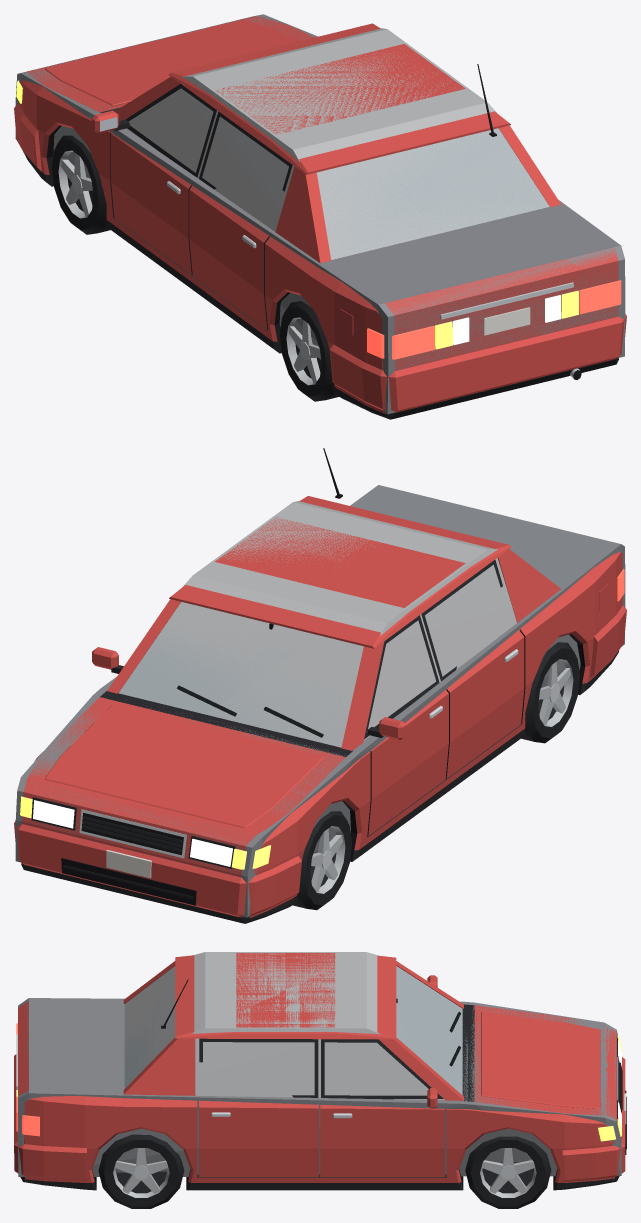
Rendered from car_sedan.glb.
The picture shows the model from 3 angles, top to bottom: view 1: azimuth 30°, elevation 25°; view 2: azimuth 150°, elevation 25°; view 3: azimuth 270°, elevation 25°; orthographic projection. The views are drawn at different scales.
Parts seen in each view (by area): view 1: car_sedan__body, car_sedan__col_cabin, car_sedan__col_body, car_sedan__door_fl, car_sedan__door_rl, car_sedan__wheel_fl, car_sedan__wheel_rl; view 2: car_sedan__body, car_sedan__col_cabin, car_sedan__col_body, car_sedan__door_fl, car_sedan__door_rl, car_sedan__wheel_rl, car_sedan__wheel_fl; view 3: car_sedan__body, car_sedan__col_cabin, car_sedan__col_body, car_sedan__door_fr, car_sedan__door_rr, car_sedan__wheel_fr, car_sedan__wheel_rr.
Boxes of the visible parts, x1,y1,x2,y2 form: car_sedan__body: (14, 16, 626, 419); car_sedan__col_cabin: (126, 28, 549, 259); car_sedan__col_body: (15, 14, 625, 414); car_sedan__door_fl: (92, 84, 216, 274); car_sedan__door_rl: (189, 111, 292, 330); car_sedan__wheel_fl: (52, 135, 110, 234); car_sedan__wheel_rl: (279, 301, 338, 401); car_sedan__body: (14, 448, 626, 923); car_sedan__col_cabin: (119, 501, 516, 747); car_sedan__col_body: (15, 485, 625, 917); car_sedan__door_fl: (364, 615, 448, 836); car_sedan__door_rl: (421, 559, 524, 778); car_sedan__wheel_rl: (521, 642, 579, 743); car_sedan__wheel_fl: (293, 811, 351, 910); car_sedan__body: (14, 953, 626, 1190); car_sedan__col_cabin: (124, 952, 462, 1099); car_sedan__col_body: (17, 998, 621, 1176); car_sedan__door_fr: (320, 1039, 444, 1177); car_sedan__door_rr: (199, 1038, 318, 1177); car_sedan__wheel_fr: (465, 1136, 551, 1208); car_sedan__wheel_rr: (98, 1134, 184, 1208).
Size of what is drawn, in the model's own units: 2.22 by 1.8 by 4.71.
9 materials, 2 textured.
